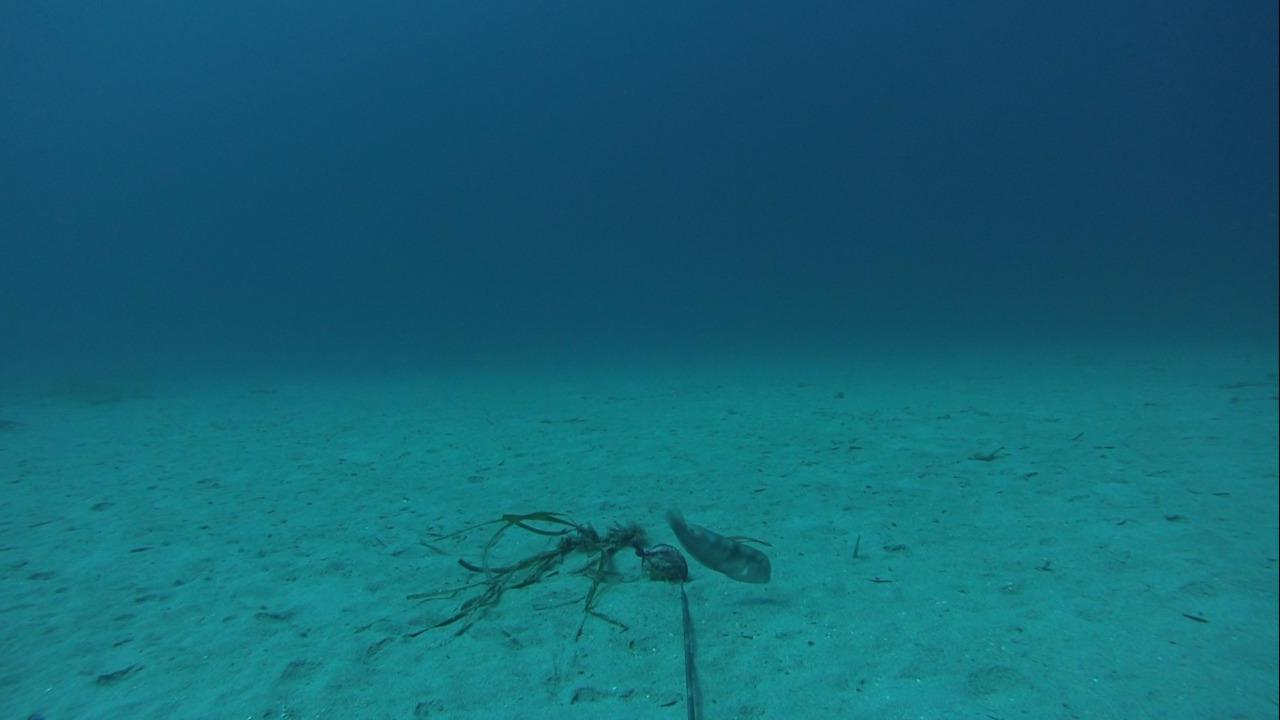raor: (665, 505, 776, 588)
